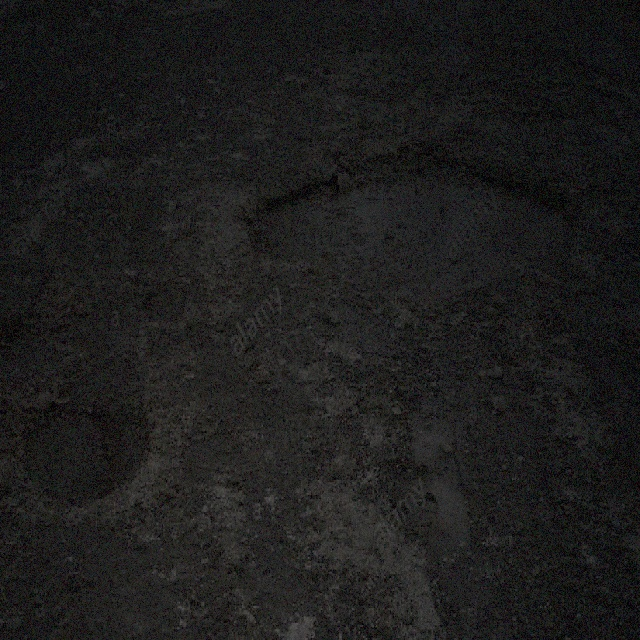pothole: (238, 134, 580, 308), (16, 394, 149, 508), (384, 401, 480, 548)
